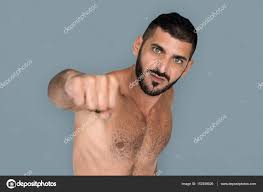middle_eastern_male: (133, 11, 193, 98)
